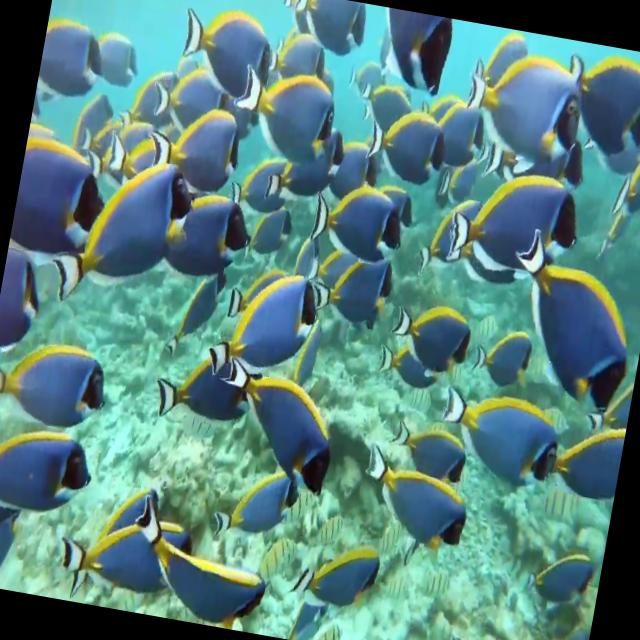fish: (479, 195, 640, 420), (46, 129, 204, 326), (196, 326, 350, 504), (430, 151, 590, 307), (118, 484, 282, 634), (198, 246, 331, 396), (458, 46, 598, 183), (349, 444, 482, 566), (0, 311, 127, 435), (8, 112, 110, 266), (55, 495, 203, 601), (146, 160, 273, 282), (435, 382, 568, 498), (218, 50, 344, 166), (301, 239, 405, 360), (0, 400, 99, 527), (550, 47, 640, 184), (146, 334, 255, 439), (304, 173, 414, 274), (148, 94, 254, 198), (278, 524, 386, 626), (160, 0, 269, 99), (362, 90, 464, 194), (540, 408, 628, 516), (362, 5, 456, 99), (379, 408, 473, 494), (389, 291, 482, 376), (255, 118, 339, 212), (158, 252, 227, 366), (36, 1, 111, 102), (524, 530, 602, 624), (0, 234, 56, 361), (253, 12, 338, 88), (363, 327, 443, 406), (469, 310, 544, 392), (232, 193, 301, 280), (273, 0, 371, 61), (87, 21, 156, 91), (430, 609, 575, 640), (218, 152, 272, 212), (0, 496, 24, 590), (618, 126, 640, 218)
